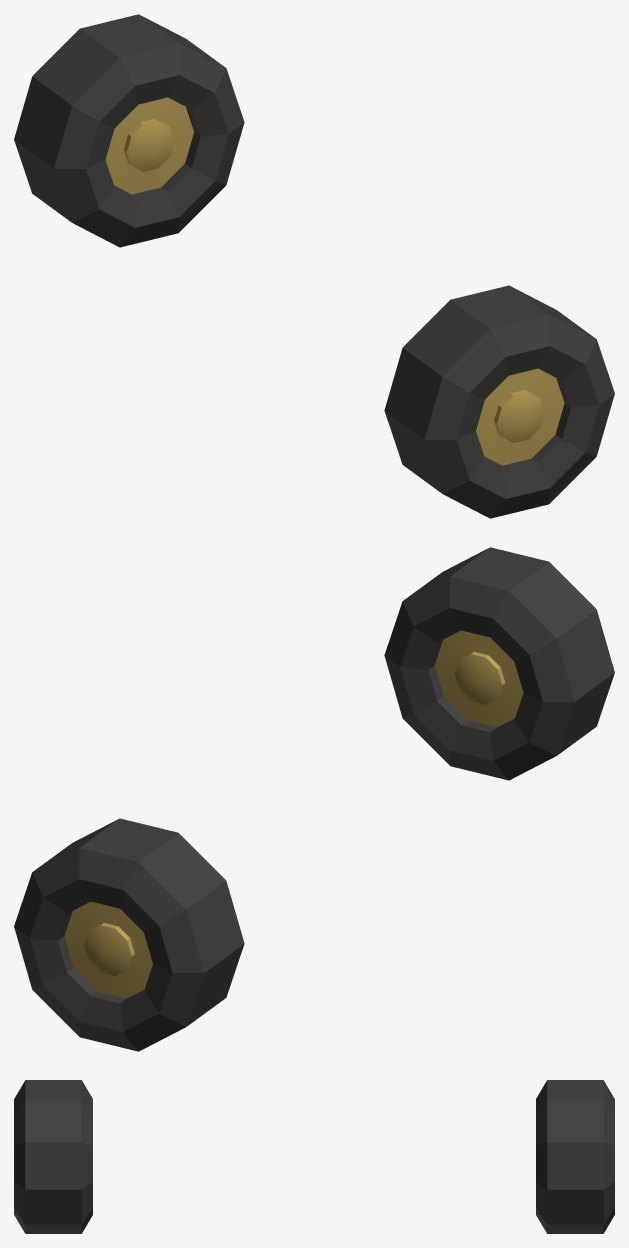
The model's file is Kart_Tire_Back.fbx.
3 views of the same model, one above another, from view 1: azimuth 30°, elevation 25°; view 2: azimuth 150°, elevation 25°; view 3: azimuth 270°, elevation 25° (orthographic). The views are drawn at different scales.
Parts seen in each view (by area): view 1: Tire_Back; view 2: Tire_Back; view 3: Tire_Back.
Boxes of the visible parts, left/top/right/bottom form: Tire_Back: left=14, top=14, right=614, bottom=518; Tire_Back: left=14, top=547, right=614, bottom=1051; Tire_Back: left=14, top=1080, right=614, bottom=1233.
Bounding box in the file's own units: 20.63 × 19.62 × 80.02.
